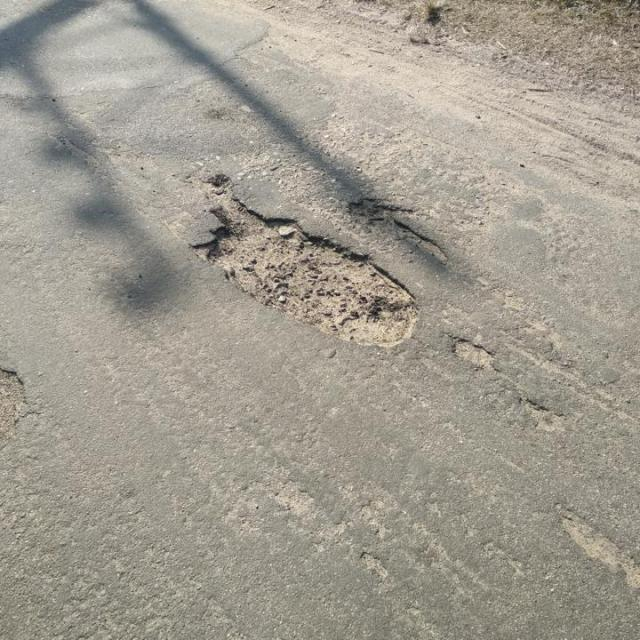Pothole: (190, 170, 419, 353), (551, 500, 640, 589), (346, 195, 453, 268), (2, 366, 31, 445), (446, 335, 504, 373)
